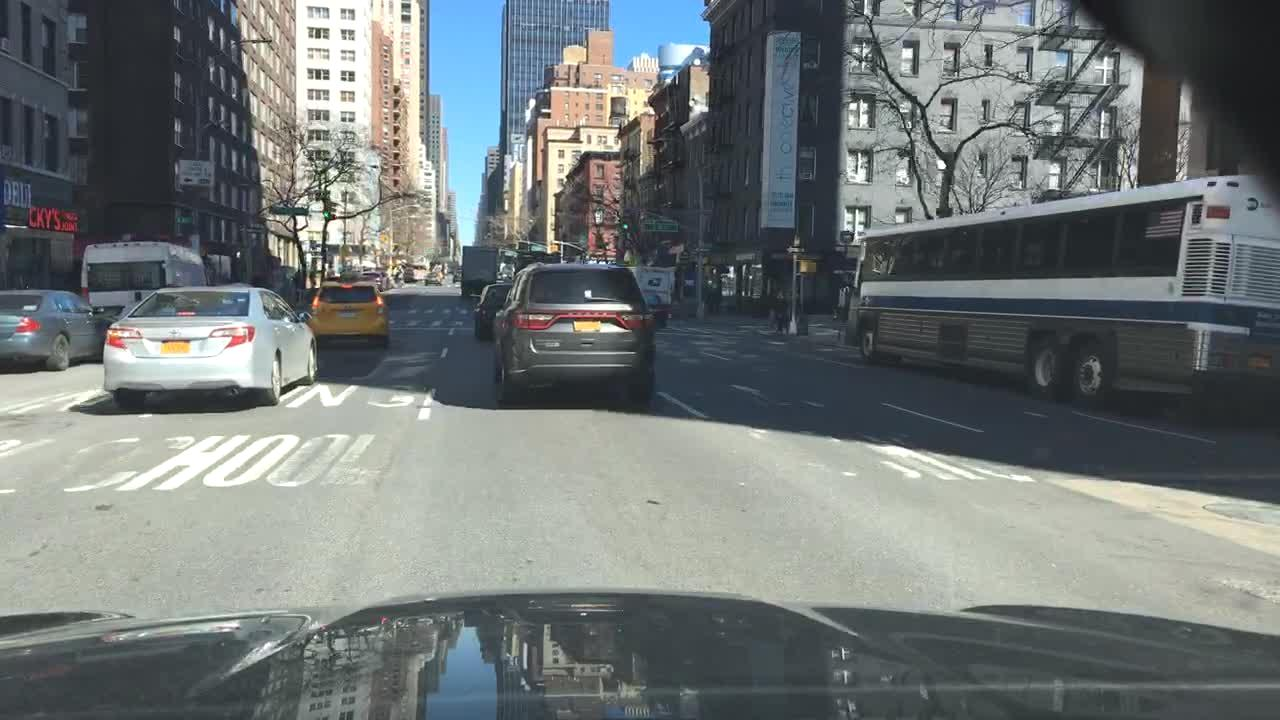Toyota: (166, 324, 184, 342)
dodge: (563, 307, 612, 323)
